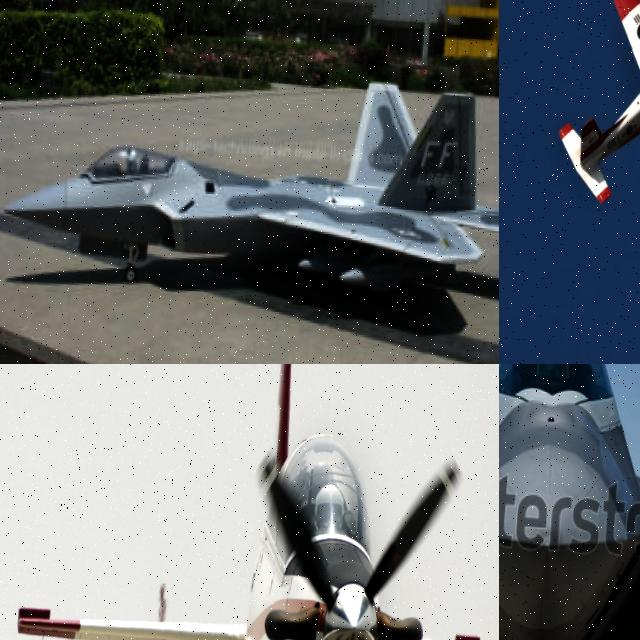F22: (0, 60, 499, 324), (499, 364, 640, 640)
KT-1: (12, 364, 499, 640), (0, 496, 499, 640), (548, 0, 640, 225)
